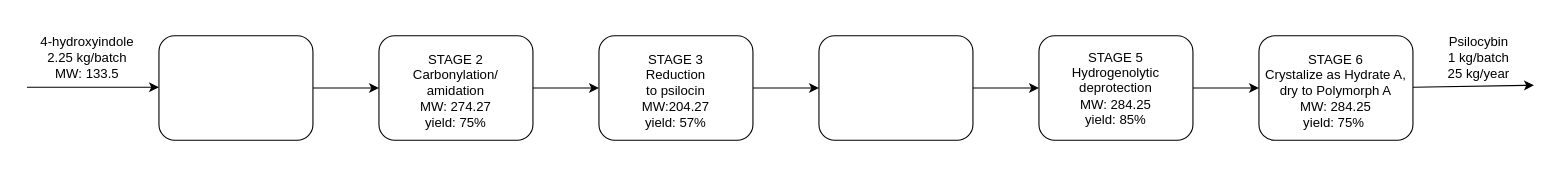
This 1562x175 diagram has some shape labels left out. Here are the shapes that lost their labels. From the top down, the centre of each, then its label:
At pixel 235 87: "STAGE 1 Acetylation MW: 175.18 yield: 90%".
At pixel 895 87: "STAGE 4 Cryogenic Phosphorylation MW: 464.49 yield: 85%".
